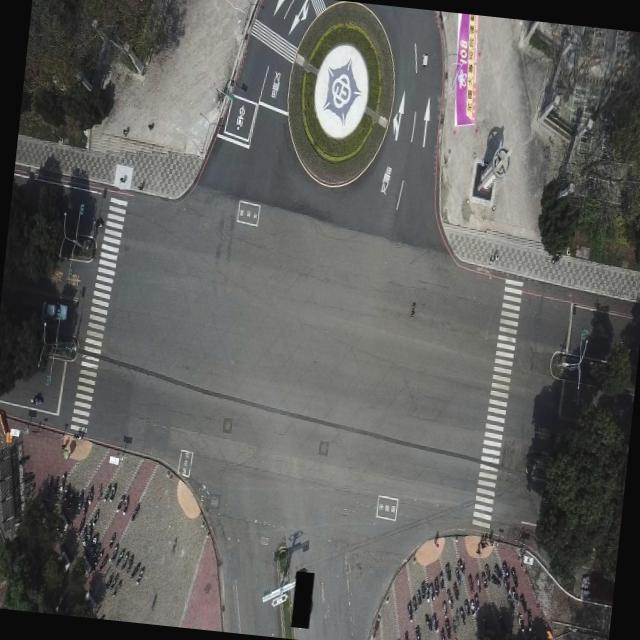bike: (424, 610, 436, 632), (508, 566, 519, 590), (134, 562, 144, 588), (406, 594, 416, 618), (107, 568, 117, 592), (457, 603, 467, 627), (408, 297, 418, 320), (85, 483, 94, 508), (418, 578, 428, 600), (450, 580, 460, 601), (116, 494, 126, 515), (440, 594, 450, 615), (129, 503, 138, 524), (122, 548, 130, 571), (455, 558, 465, 576), (412, 623, 422, 640), (108, 481, 116, 502), (471, 590, 478, 614), (100, 481, 108, 502), (59, 468, 68, 486), (428, 580, 436, 600), (436, 571, 444, 591), (110, 542, 118, 560), (401, 627, 412, 640), (436, 627, 447, 640), (92, 508, 98, 524)
